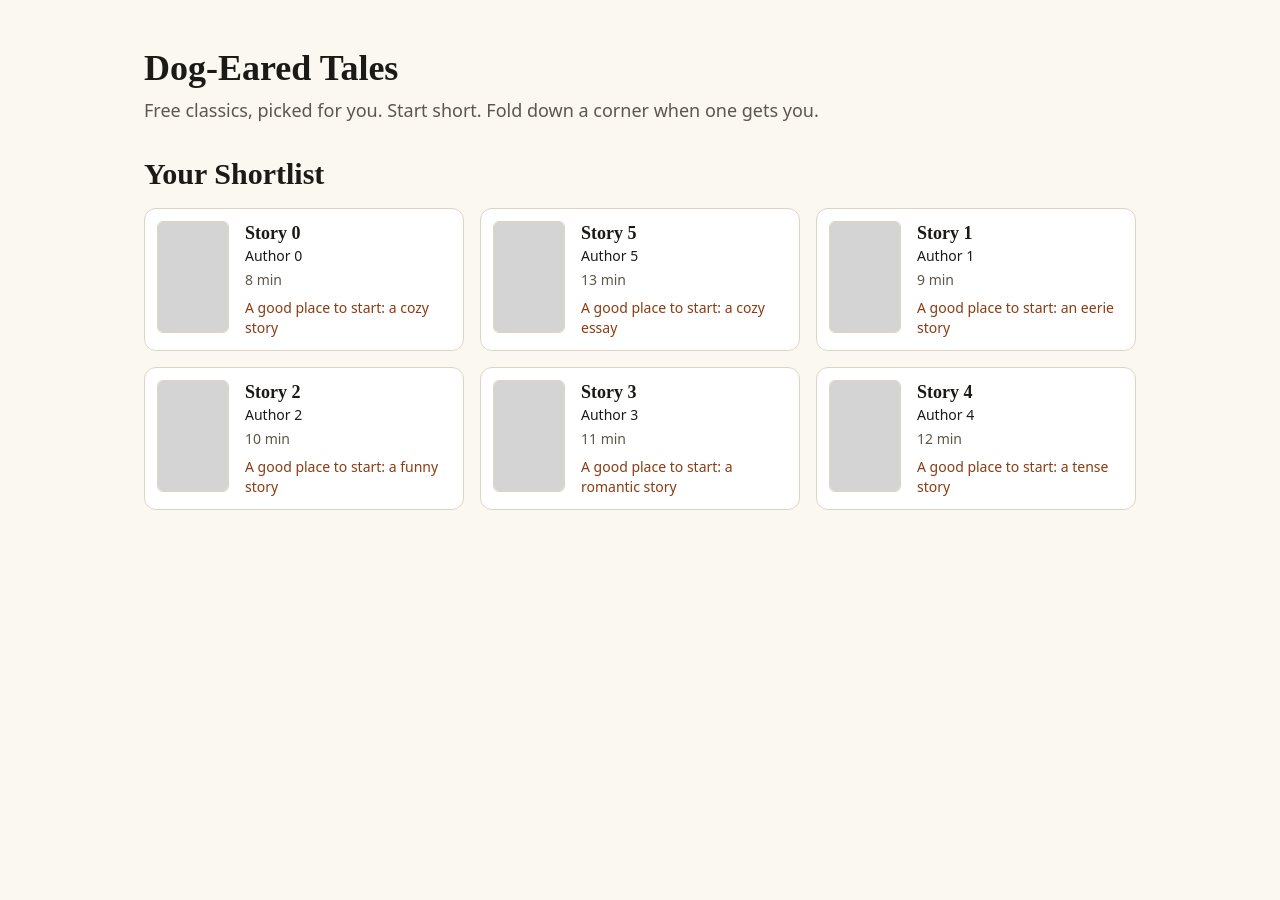
Scenario: Not for me › swaps the card at once and shows Removed · Undo
Click the button "Story 0 Author 0 8 min A good place to start: a cozy story" at (193, 277), box [144,208,464,351]
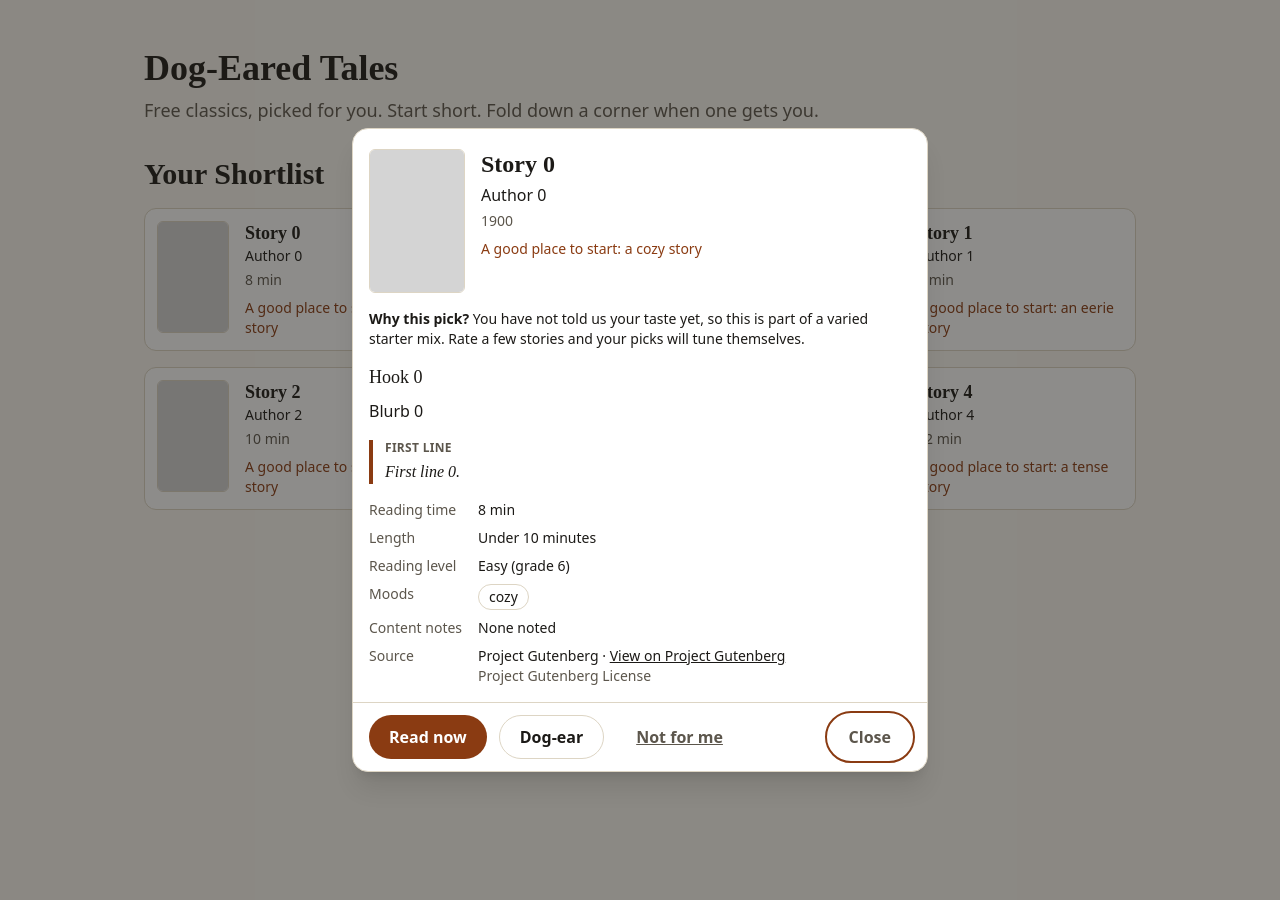
Click the button "Not for me" at (680, 737), box [616,715,743,759]
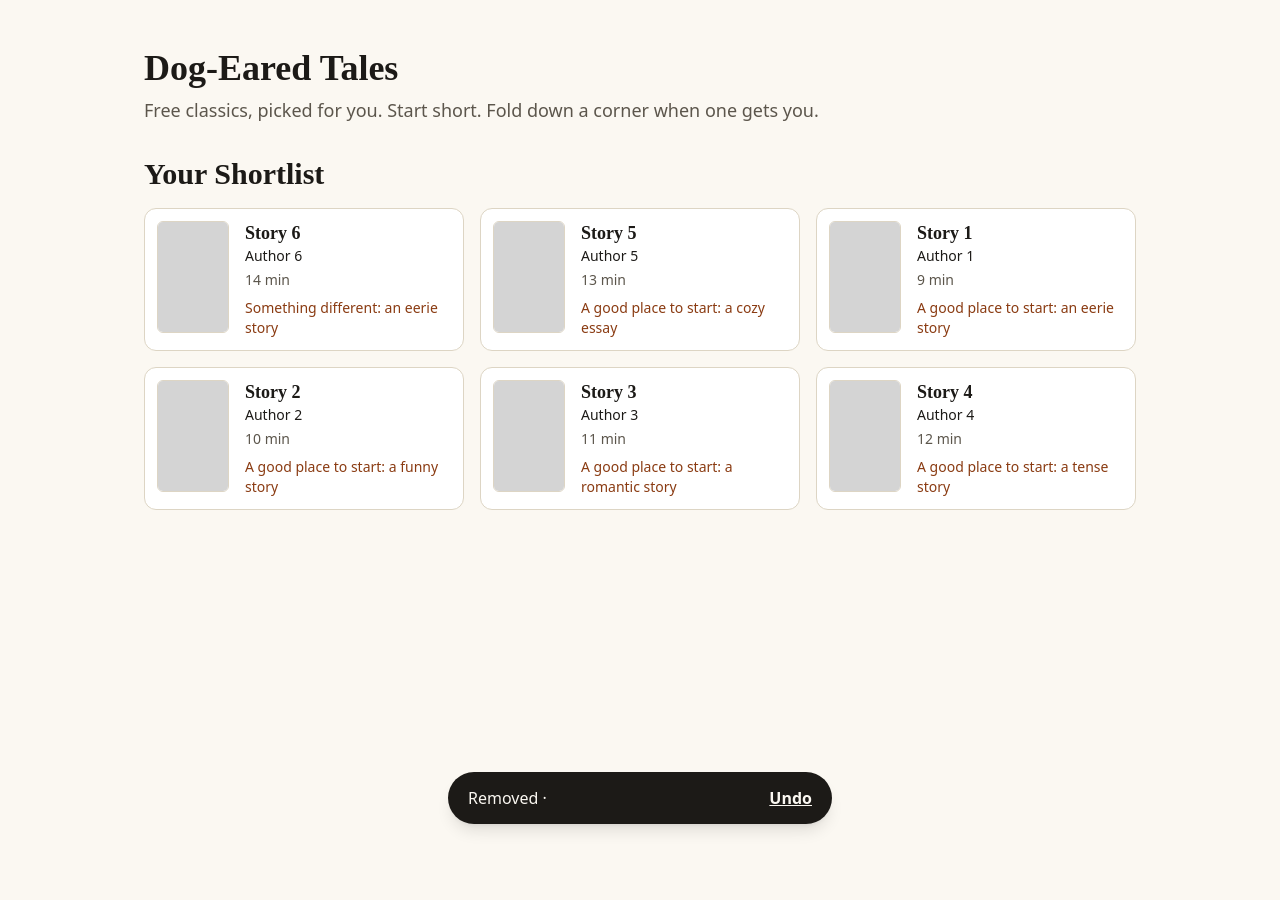
expect the number of list items is 6: met, box [144,208,464,351]; [480,208,800,351]; [816,208,1136,351]; [144,367,464,510]; [480,367,800,510]; [816,367,1136,510]
expect the dialog is gone: met
expect the message shows "Removed ·": met, box [468,787,547,809]
